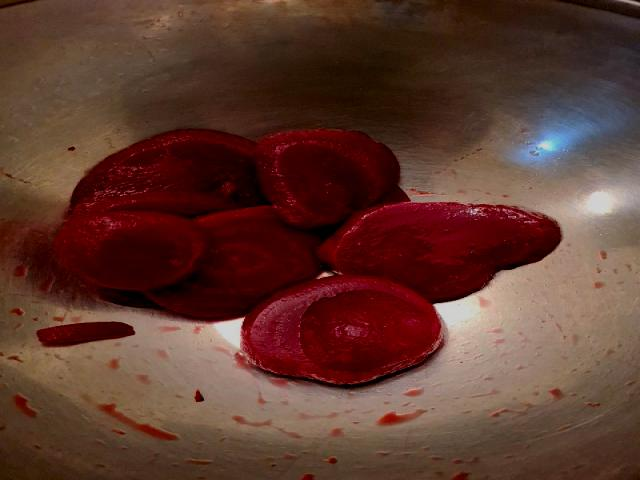kichen waste: (37, 130, 560, 386)
